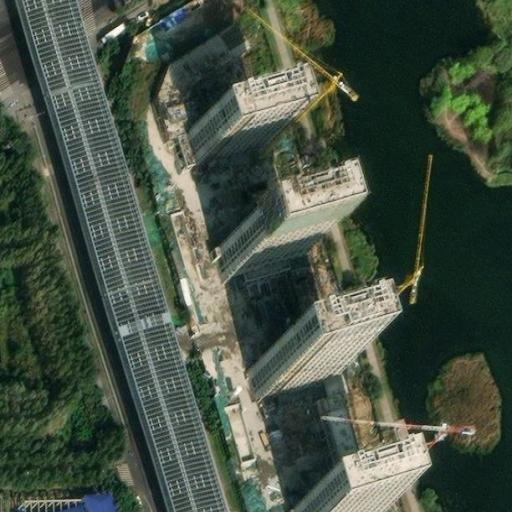building: (317, 368, 383, 512), (213, 216, 302, 269), (248, 338, 335, 392), (169, 121, 252, 173), (218, 402, 255, 467), (17, 488, 116, 512), (277, 489, 364, 512)
